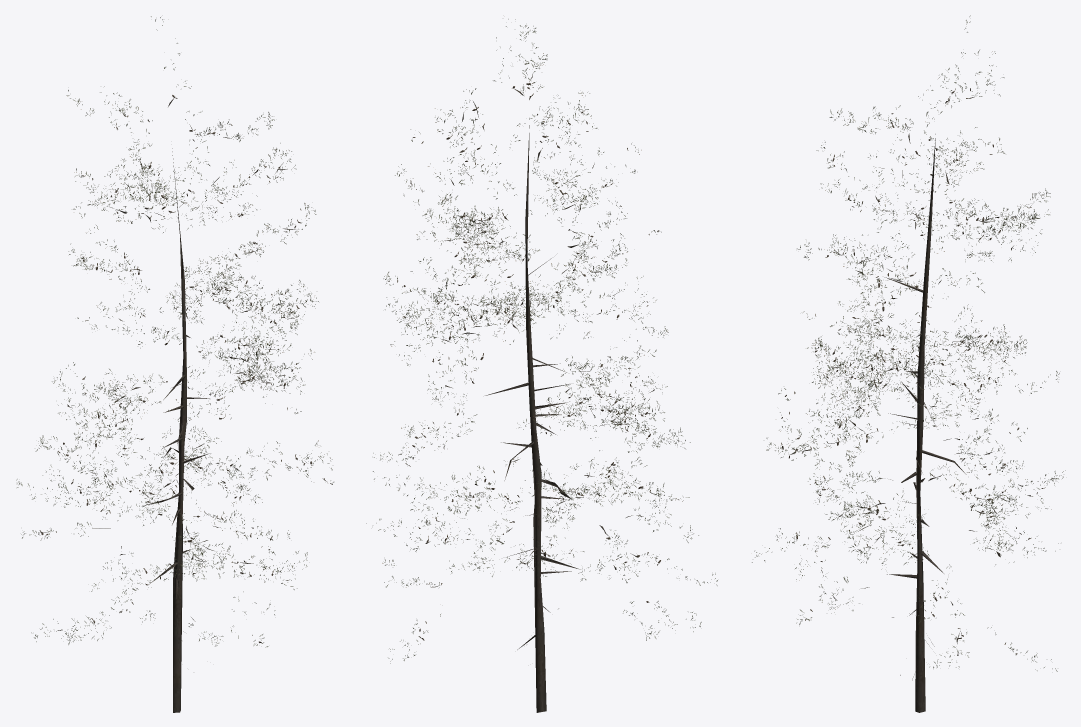
The model's file is pine_sapling_medium.glb.
3 renders of one model, left to right at view 1: azimuth 30°, elevation 25°; view 2: azimuth 150°, elevation 25°; view 3: azimuth 270°, elevation 25°, orthographic. The views are drawn at different scales.
Parts seen in each view (by area): view 1: pine_sapling_medium_a_LOD0; view 2: pine_sapling_medium_a_LOD0; view 3: pine_sapling_medium_a_LOD0.
Part boxes in pixels (x1,y1,x2,y2): pine_sapling_medium_a_LOD0: [16, 16, 333, 712]; pine_sapling_medium_a_LOD0: [366, 19, 717, 712]; pine_sapling_medium_a_LOD0: [752, 15, 1065, 712].
Bounding box in the file's own units: 5.16 × 11.27 × 4.67.
3 materials, 3 textured.
